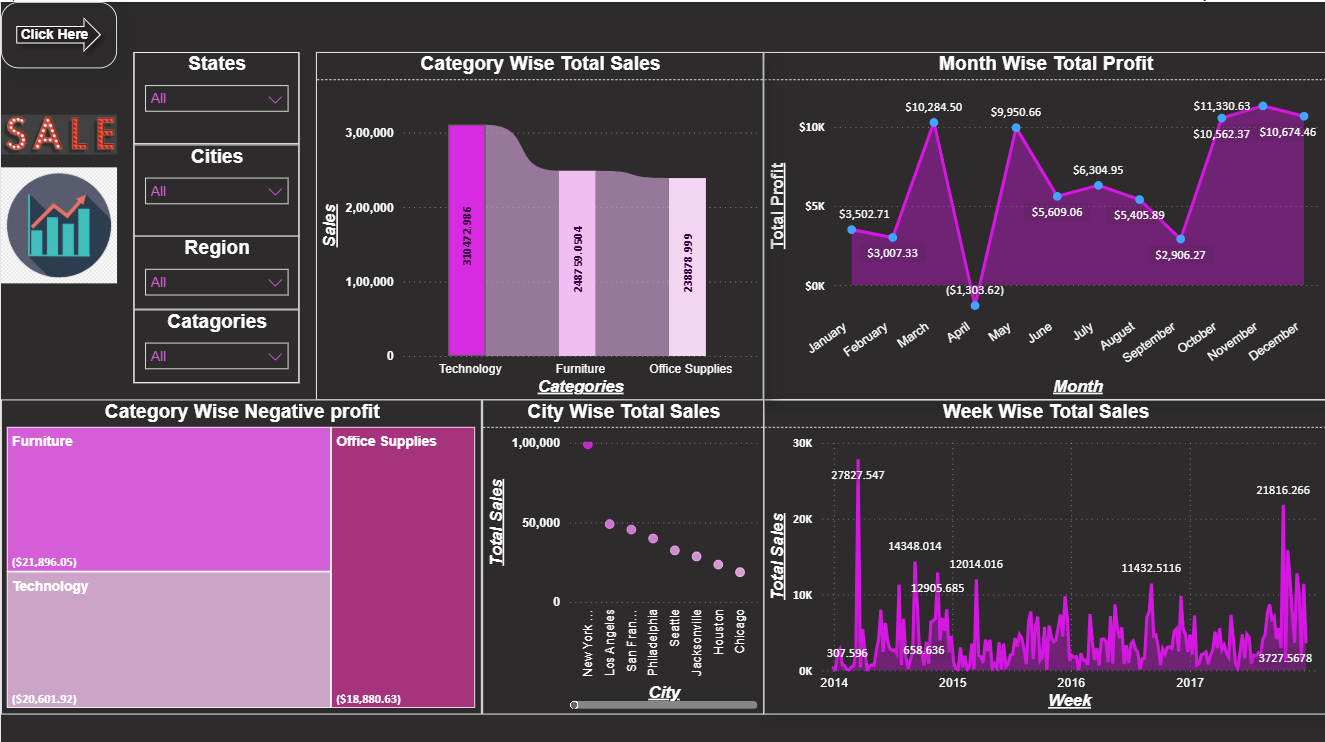

What the dashboard file says about the page in this screenshot:
{"tool":"powerbi","page":{"name":"Report-3","canvas":[1280,720],"ordinal":2},"visuals":[{"type":"lineChart","title":"Month Wise Total Profit","fields":{"Y":["Project 2 Data.Total Profit"],"Category":["Project 2 Data.Order Date.Variation.Date Hierarchy.Month"]},"box":[736,48,544,336],"z":0},{"type":"slicer","title":"Cities","fields":{"Values":["Project 2 Data.City"]},"box":[128,136.9,160,88.9],"z":0,"group":"g1"},{"type":"slicer","title":"States","fields":{"Values":["Project 2 Data.State"]},"box":[128,48,160,88.9],"z":1000,"group":"g1"},{"type":"lineChart","title":"Week Wise Total Sales","fields":{"Category":["Project 2 Data.Week Number"],"Y":["Project 2 Data.Total Sales"]},"box":[736,384,544,304],"z":1000},{"type":"ribbonChart","title":"Category Wise Total Sales","fields":{"Y":["Project 2 Data.Total Sales"],"Category":["Project 2 Data.Category"]},"box":[304,48,432,336],"z":2000},{"type":"slicer","title":"Region","fields":{"Values":["Project 2 Data.Region"]},"box":[128,225.8,160,71.1],"z":2000,"group":"g1"},{"type":"slicer","title":"Catagories","fields":{"Values":["Project 2 Data.Category"]},"box":[128,296.9,160,71.1],"z":3000,"group":"g1"},{"type":"scatterChart","title":"City Wise Total Sales","fields":{"Y":["Project 2 Data.Total Sales"],"X":["Project 2 Data.City"]},"box":[464,384,272,304],"z":3000},{"type":"treemap","title":"Category Wise Negative profit","fields":{"Group":["Project 2 Data.Category"],"Values":["Project 2 Data.Negative profit"]},"box":[0,384,464,304],"z":4000},{"type":"shape","box":[0,0,112,64],"z":5000},{"type":"group","id":"g1","title":"Group 1","box":[128,48,160,320],"z":6000},{"type":"image","box":[0,64,112,128],"z":7000},{"type":"image","box":[0,144,112,144],"z":8000}]}

Visuals, with their boxes in screenshot pixels (x1, y1, x2, y2), scaled from the page's 1280x720 canvas onto the 1325x742 screenshot:
"Month Wise Total Profit" lineChart: bbox=(762, 49, 1324, 396)
"Cities" slicer: bbox=(132, 141, 298, 233)
"States" slicer: bbox=(132, 49, 298, 141)
"Week Wise Total Sales" lineChart: bbox=(762, 396, 1324, 709)
"Category Wise Total Sales" ribbonChart: bbox=(315, 49, 762, 396)
"Region" slicer: bbox=(132, 233, 298, 306)
"Catagories" slicer: bbox=(132, 306, 298, 379)
"City Wise Total Sales" scatterChart: bbox=(480, 396, 762, 709)
"Category Wise Negative profit" treemap: bbox=(0, 396, 480, 709)
shape: bbox=(0, 0, 116, 66)
"Group 1" group: bbox=(132, 49, 298, 379)
image: bbox=(0, 66, 116, 198)
image: bbox=(0, 148, 116, 297)
